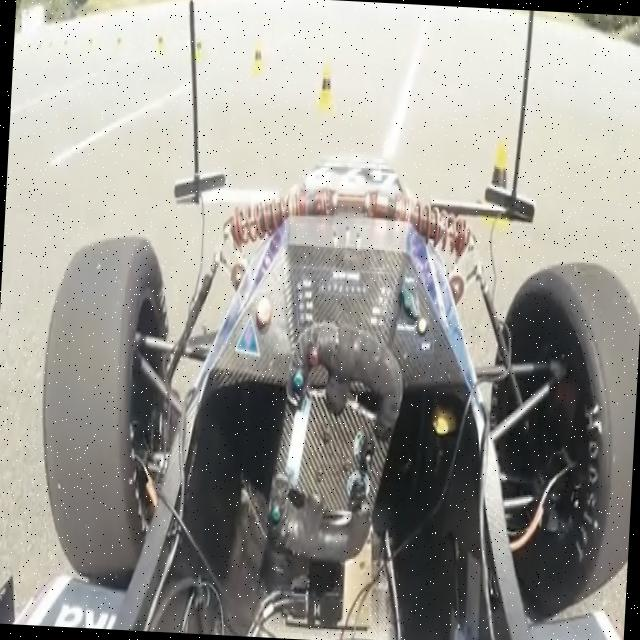yellow_cone: (478, 136, 518, 232), (316, 60, 338, 113)
